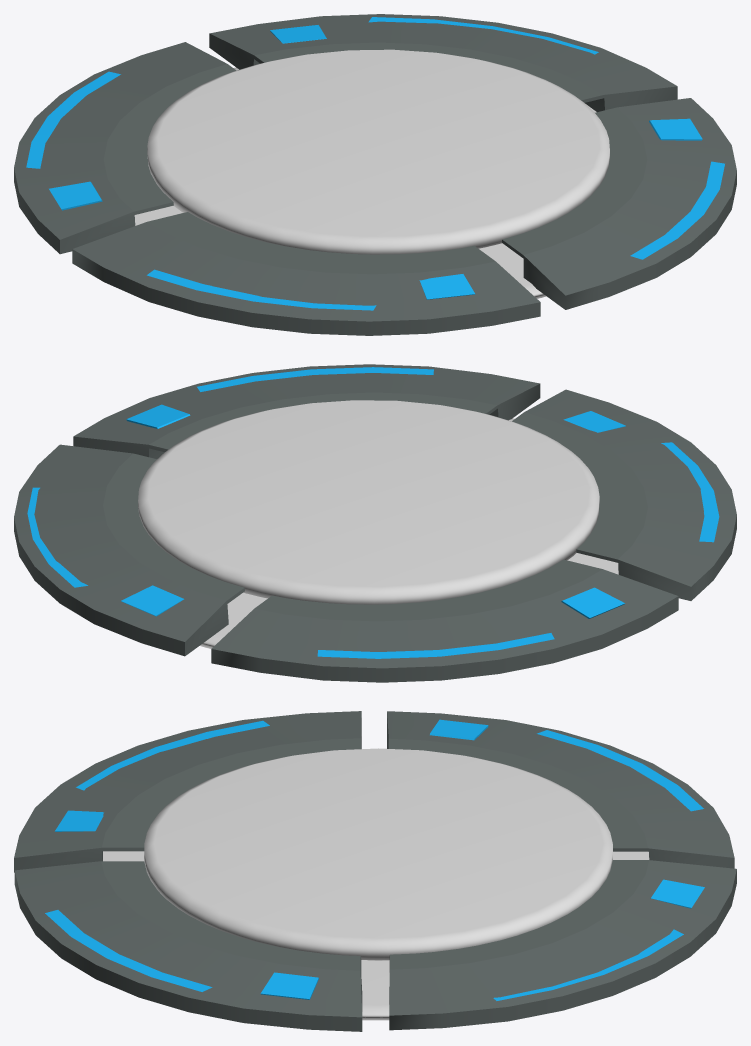
File: Door Button 1.fbx
3 renders of one model, top to bottom at view 1: azimuth 30°, elevation 25°; view 2: azimuth 150°, elevation 25°; view 3: azimuth 270°, elevation 25°, orthographic.
Visible parts, largest first — view 1: Object011, Cylinder.001, Cylinder; view 2: Object011, Cylinder.001, Cylinder; view 3: Object011, Cylinder.001, Cylinder.
Part boxes in pixels (x1,y1,x2,y2): Object011: (14, 14, 736, 335); Cylinder.001: (147, 49, 609, 254); Cylinder: (134, 67, 596, 298); Object011: (14, 364, 736, 682); Cylinder.001: (138, 400, 599, 604); Cylinder: (200, 418, 618, 648); Object011: (14, 711, 736, 1031); Cylinder.001: (144, 748, 612, 960); Cylinder: (103, 851, 649, 1020).
Size of the model in its own units: 148 by 11.01 by 148.
